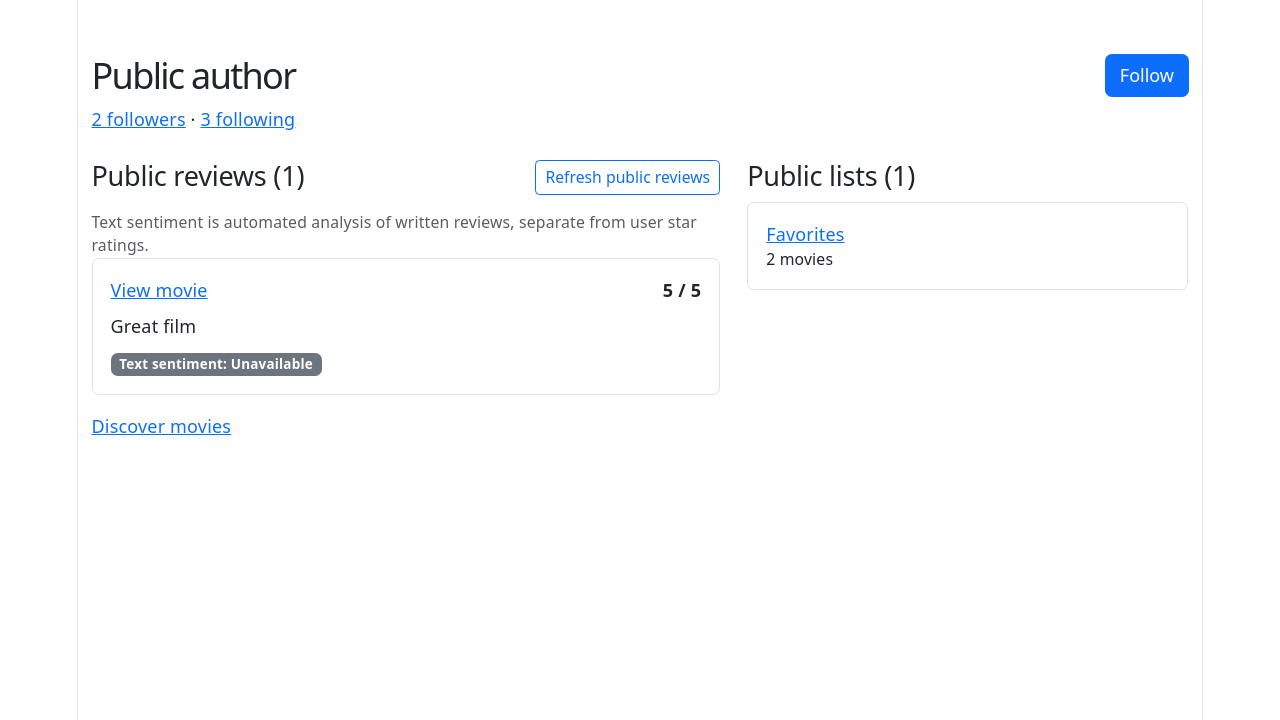
prevents duplicate requests while a follow change is pending
The width and height of the screenshot is (1280, 720).
Click the button "Follow" at (1147, 75), box [1105, 54, 1188, 96]
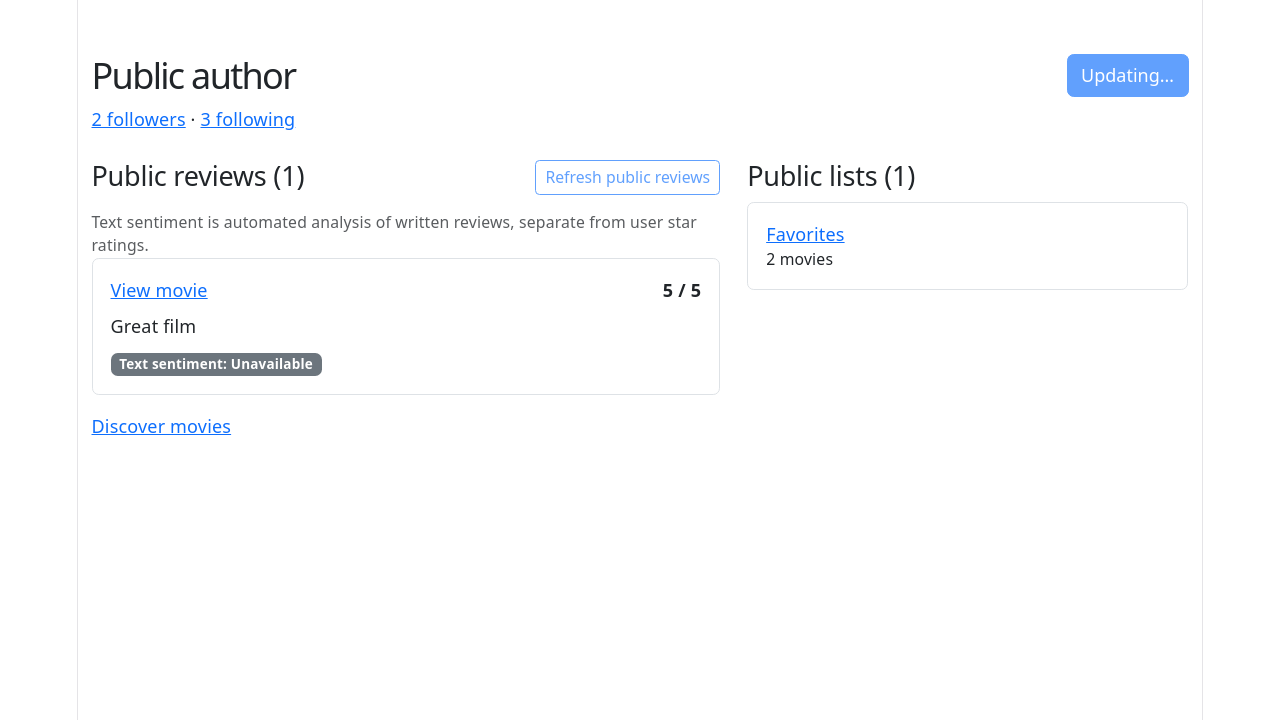
Expected: the button "Updating…" is disabled
Click the button "Updating…" at (1128, 75), box [1066, 54, 1188, 96]
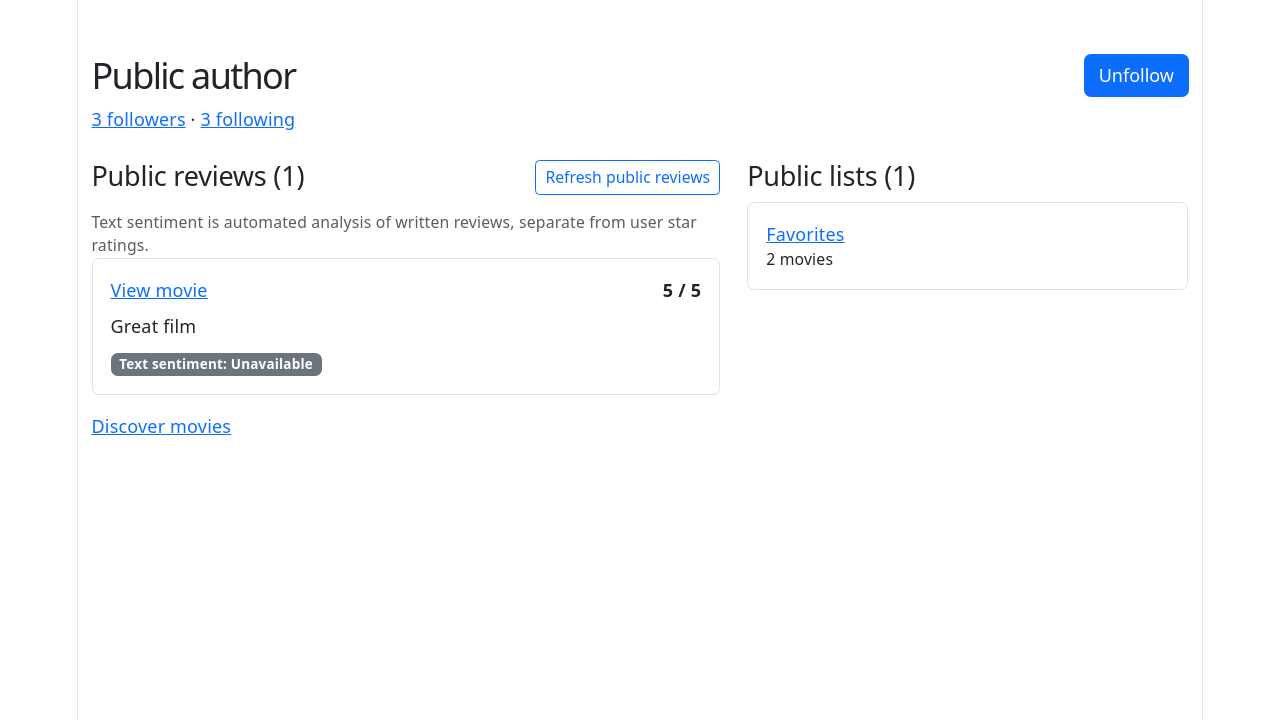
Expected: the button "Unfollow" is enabled, [1084, 54, 1188, 96]
